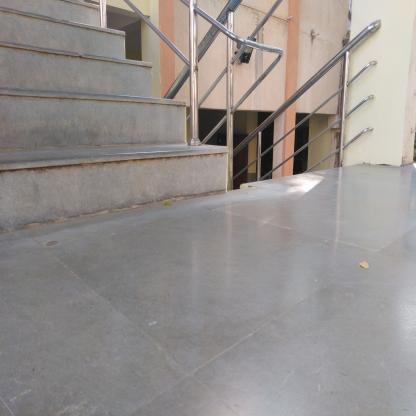stairs: (2, 58, 151, 250)
